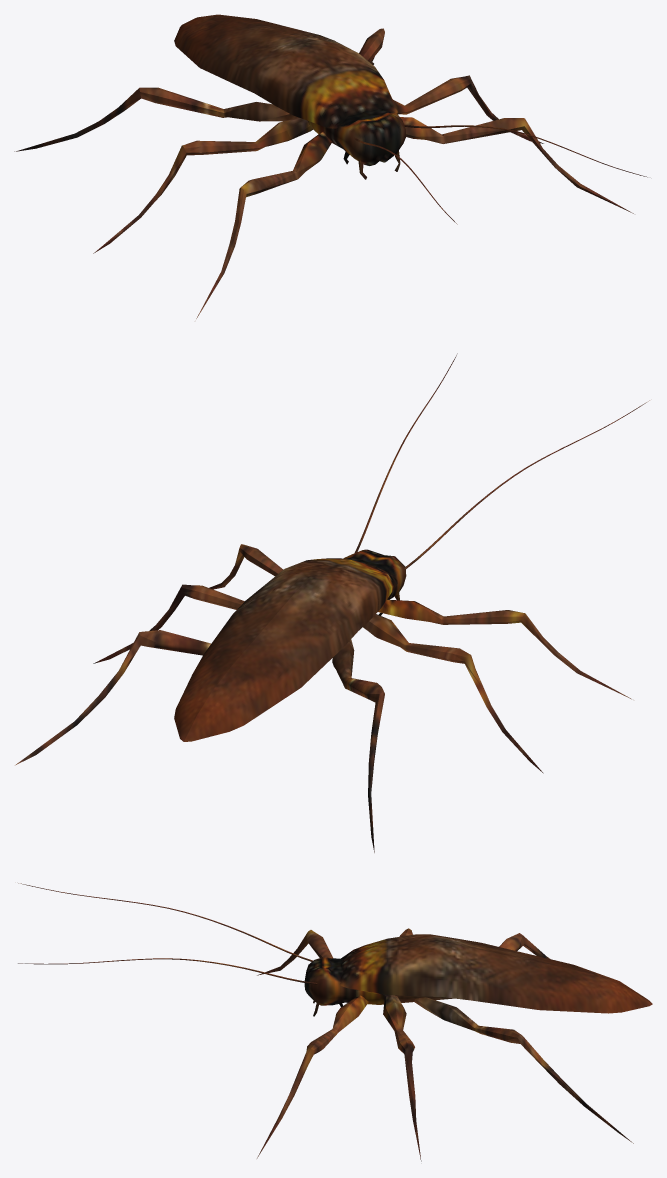
File: roach.obj
3 views of the same model, one above another, from view 1: azimuth 30°, elevation 25°; view 2: azimuth 150°, elevation 25°; view 3: azimuth 270°, elevation 25° (orthographic). The views are drawn at different scales.
Parts seen in each view (by area): view 1: roach1:roach; view 2: roach1:roach; view 3: roach1:roach.
Part boxes in pixels (<box>): roach1:roach: <box>14,14,647,318</box>; roach1:roach: <box>15,353,649,852</box>; roach1:roach: <box>18,883,652,1161</box>.
Size of the model in its own units: 5.83 by 2.11 by 8.32.
